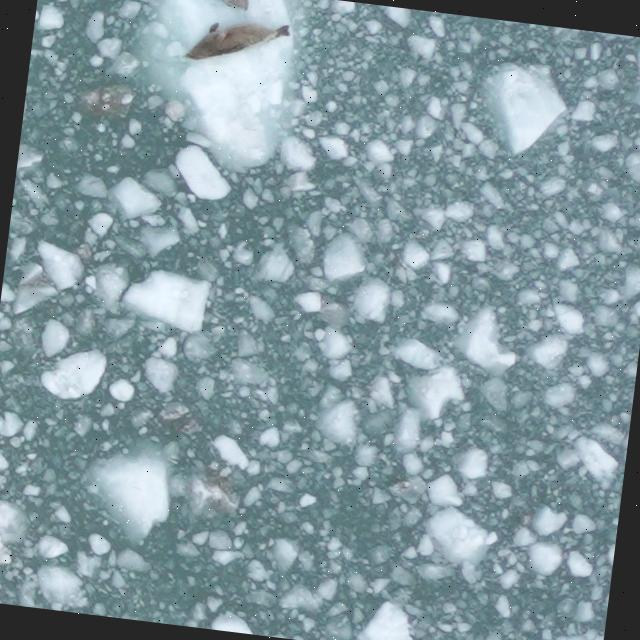seal: (179, 11, 294, 73)
